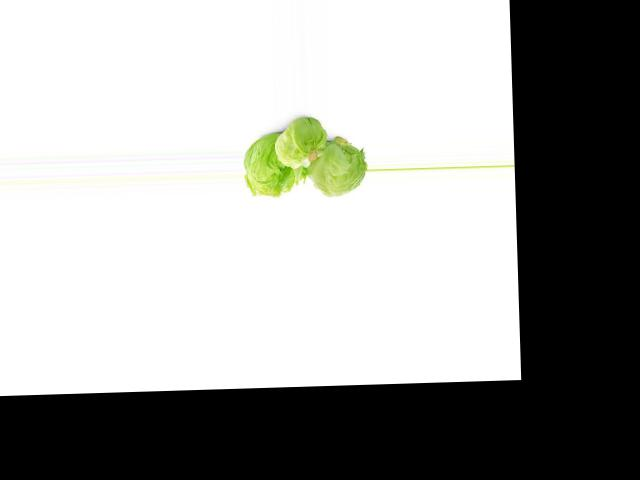lettuce: (246, 136, 299, 194)
